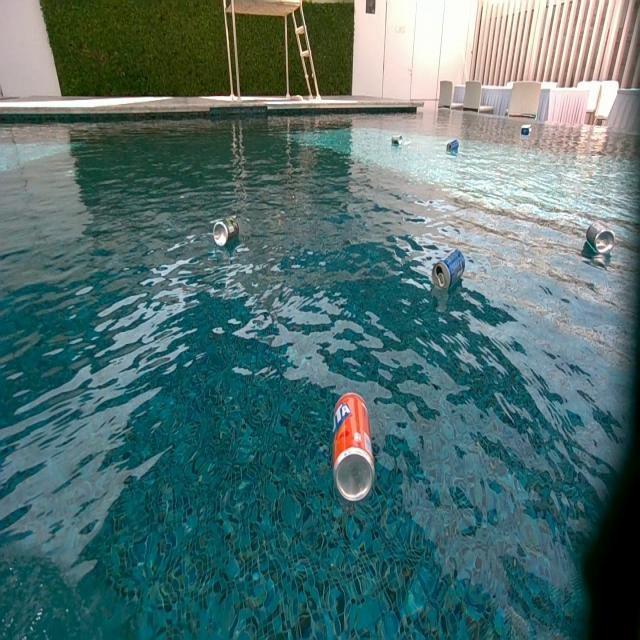Cans: (330, 391, 378, 501), (432, 250, 467, 294), (585, 222, 617, 255), (212, 217, 239, 246), (447, 139, 461, 153), (390, 135, 402, 148), (521, 127, 531, 137)
